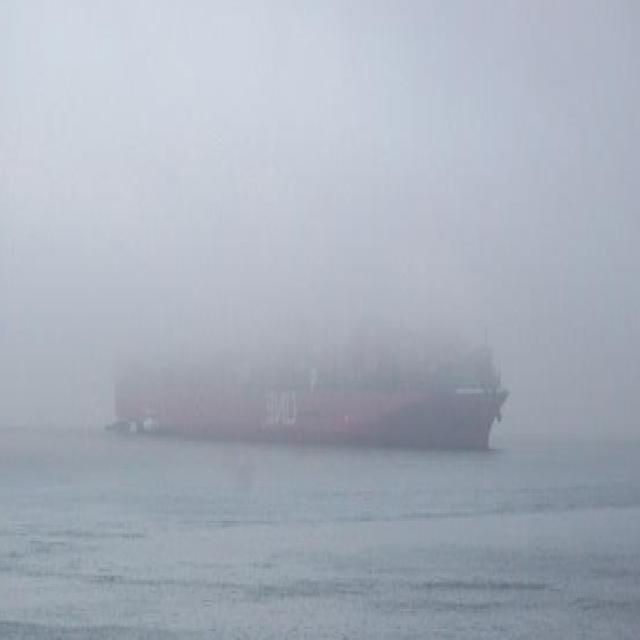cargoship: (115, 277, 504, 449)
